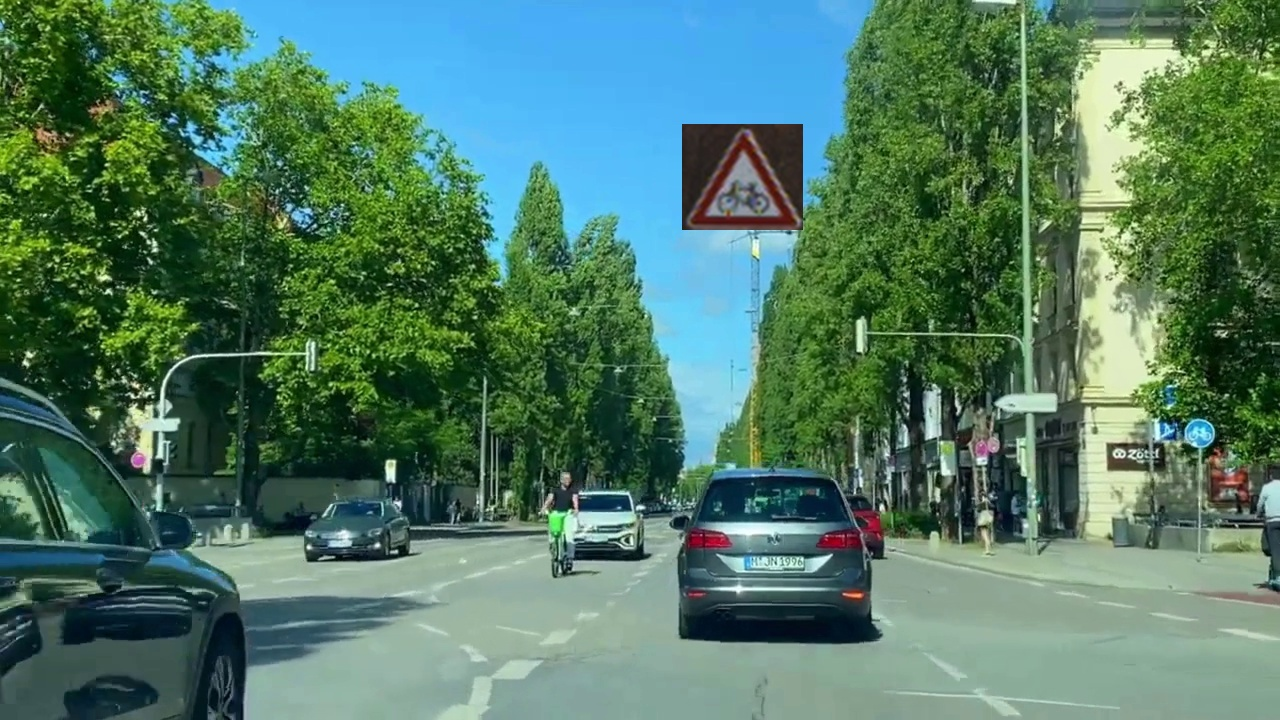Bicycles: (682, 124, 803, 230)
